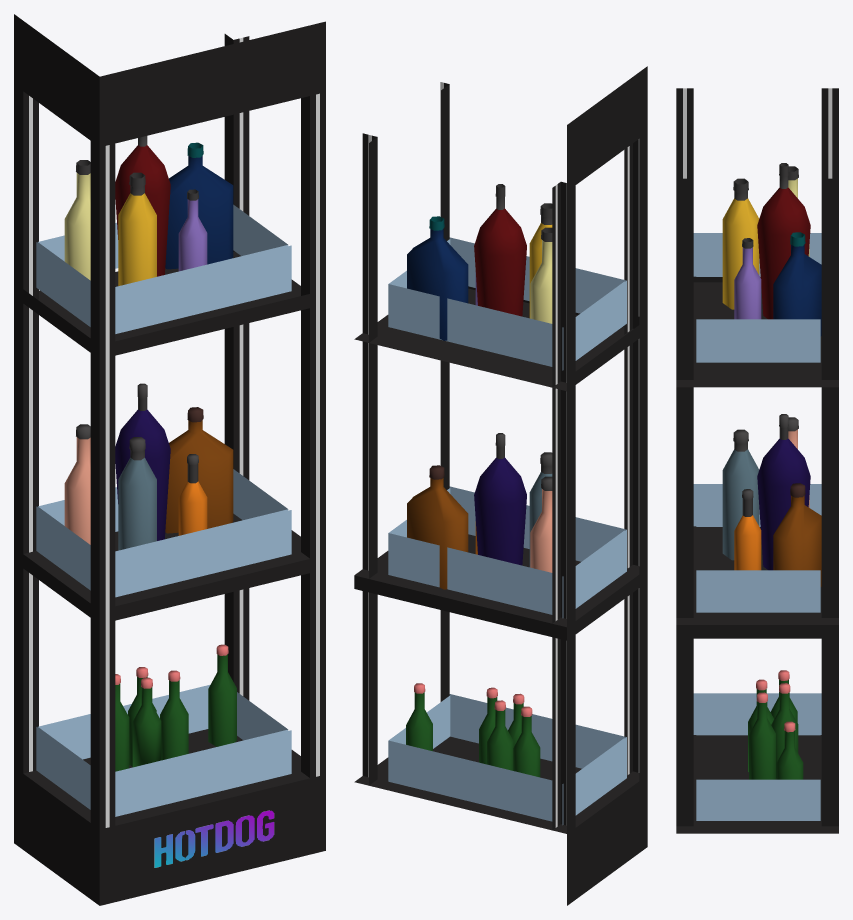
Rendered from M_qiangjiaogui04.FBX.
3 renders of one model, left to right at view 1: azimuth 30°, elevation 25°; view 2: azimuth 150°, elevation 25°; view 3: azimuth 270°, elevation 25°, orthographic. The views are drawn at different scales.
Parts seen in each view (by area): view 1: M_qiangjiaogui04_01, M_qiangjiaogui04_02, M_qiangjiaogui04_04, M_qiangjiaogui04_03, M_qiangjiaogui04_05; view 2: M_qiangjiaogui04_01, M_qiangjiaogui04_02, M_qiangjiaogui04_04, M_qiangjiaogui04_03; view 3: M_qiangjiaogui04_01, M_qiangjiaogui04_04, M_qiangjiaogui04_02, M_qiangjiaogui04_03.
Part boxes in pixels (x1,y1,x2,y2): M_qiangjiaogui04_01: [14, 14, 325, 905]; M_qiangjiaogui04_02: [36, 204, 291, 816]; M_qiangjiaogui04_04: [64, 136, 236, 771]; M_qiangjiaogui04_03: [29, 37, 319, 827]; M_qiangjiaogui04_05: [154, 810, 274, 867]; M_qiangjiaogui04_01: [354, 66, 647, 905]; M_qiangjiaogui04_02: [388, 237, 626, 824]; M_qiangjiaogui04_04: [406, 197, 552, 777]; M_qiangjiaogui04_03: [368, 82, 639, 827]; M_qiangjiaogui04_01: [676, 88, 838, 833]; M_qiangjiaogui04_04: [722, 176, 821, 779]; M_qiangjiaogui04_02: [693, 233, 821, 820]; M_qiangjiaogui04_03: [683, 88, 832, 178].
Size of the model in its own units: 1.1 by 3.86 by 0.7248.
